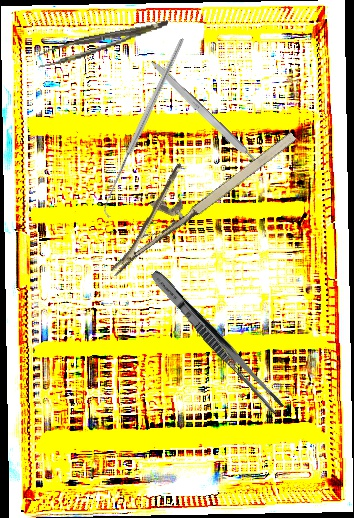Dressing Forceps: (146, 266, 287, 416)
Hook Surgical: (48, 37, 243, 219)
Needle Holder: (82, 100, 302, 277)
Scalpel Handle: (147, 58, 262, 170)
Tissue Forceps: (34, 20, 172, 68)
